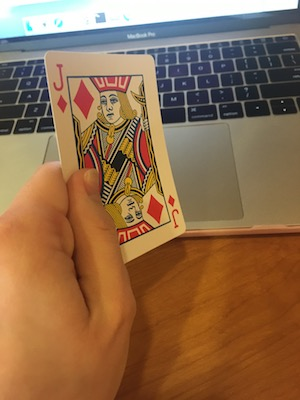JackOfDiamonds: (32, 38, 194, 269)
